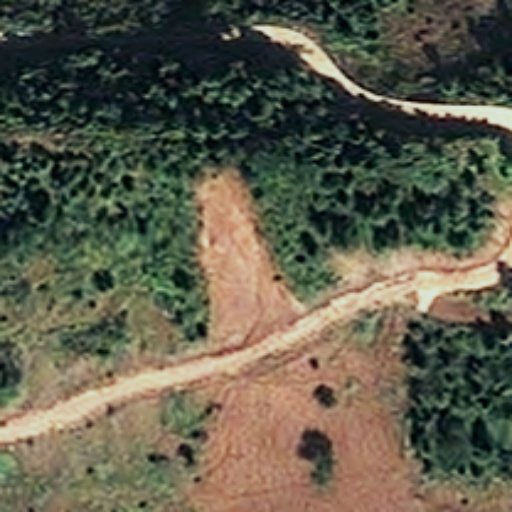landslide: (194, 165, 421, 491)
